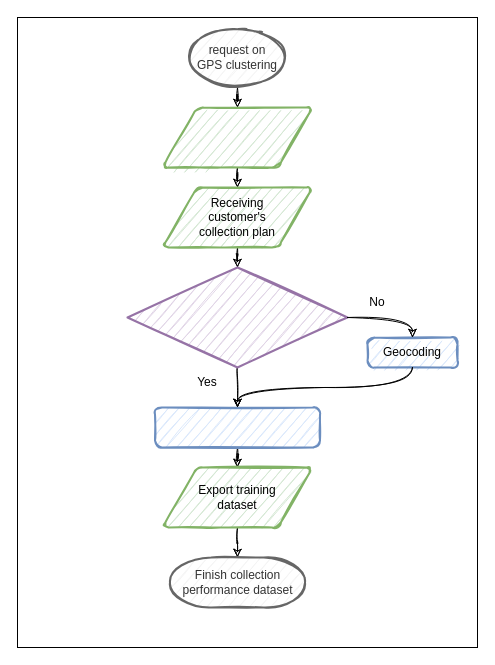
Image size: 495x665. Some labels were removed from this diagram. Each missing label, with the centre of its shape:
"does collection plan contain lat,lon coordinates?" goes at (237,317).
"Merge(collection_plan, gps)" goes at (237,427).
"Receiving customers GPS records" goes at (237,137).
